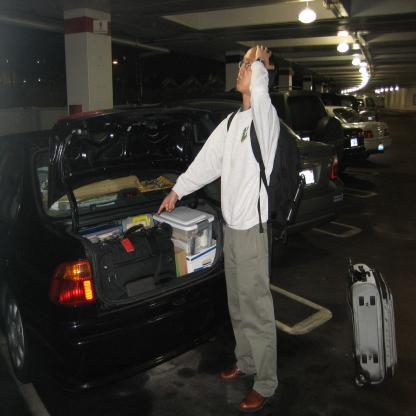Car: (0, 107, 226, 380)
